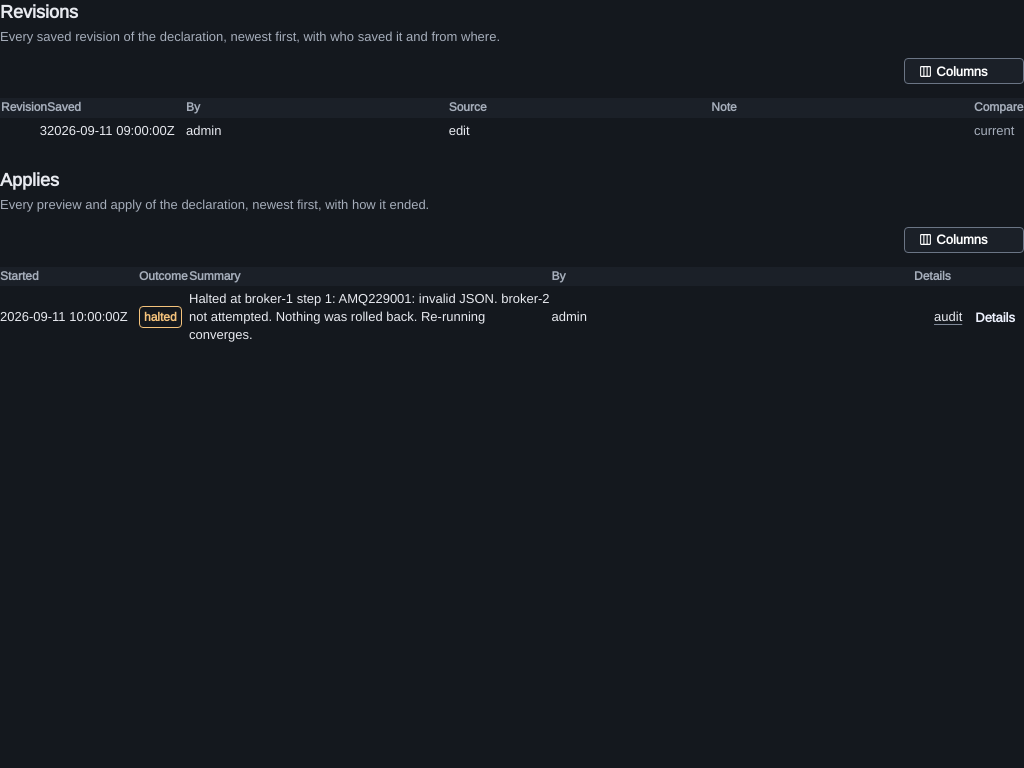
HistoryTab applies › opens an apply as the same result the operator confirmed, and closes it again
The width and height of the screenshot is (1024, 768).
Click the button "Details" at x=995, y=317, box [966,304,1023,330]
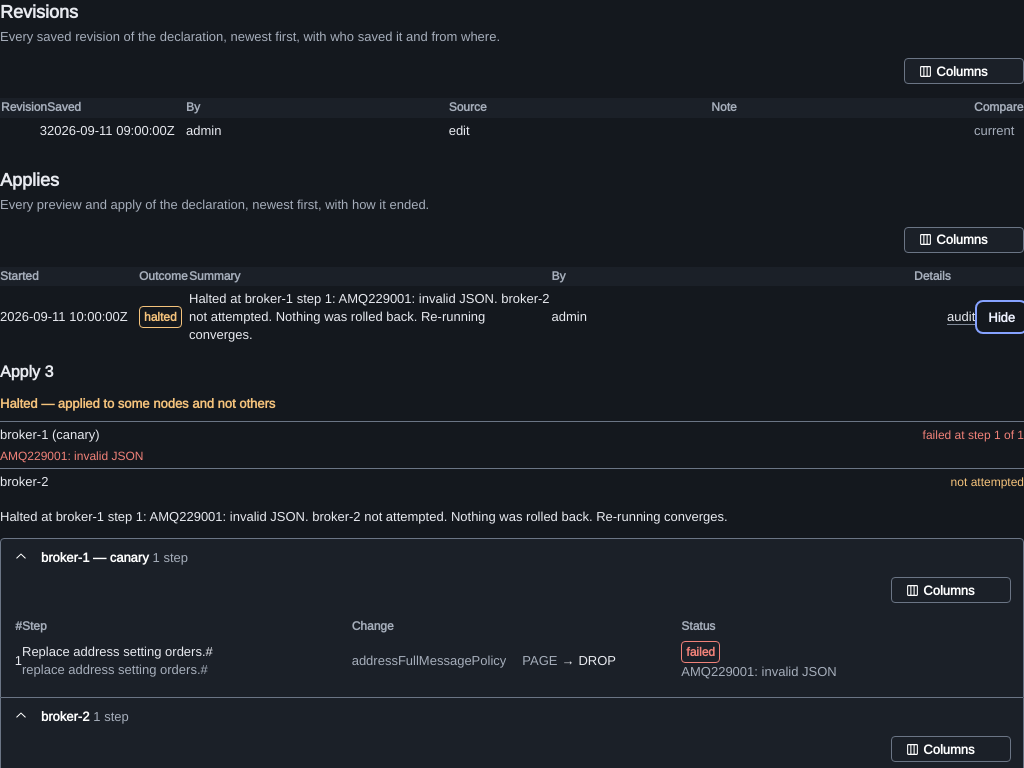
Check: the text "AMQ229001: invalid JSON" in the row of "2026-09-11 10:00:00Z" is shown, box [189,290,550,343]
Check: the text "Halted — applied to some nodes and not others" is shown, box [0,395,275,413]
Check: the button "Hide" is expanded
Click the button "Hide" at x=1002, y=317, box [979,304,1023,330]
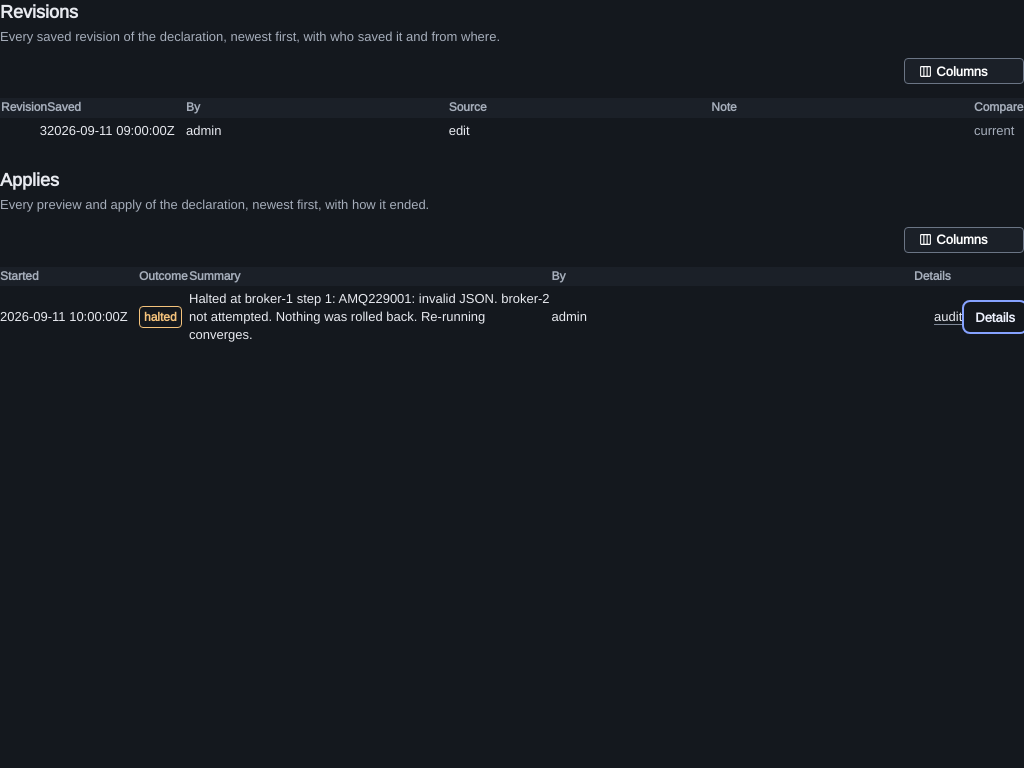
Check: the text "Halted — applied to some nodes and not others" is gone
